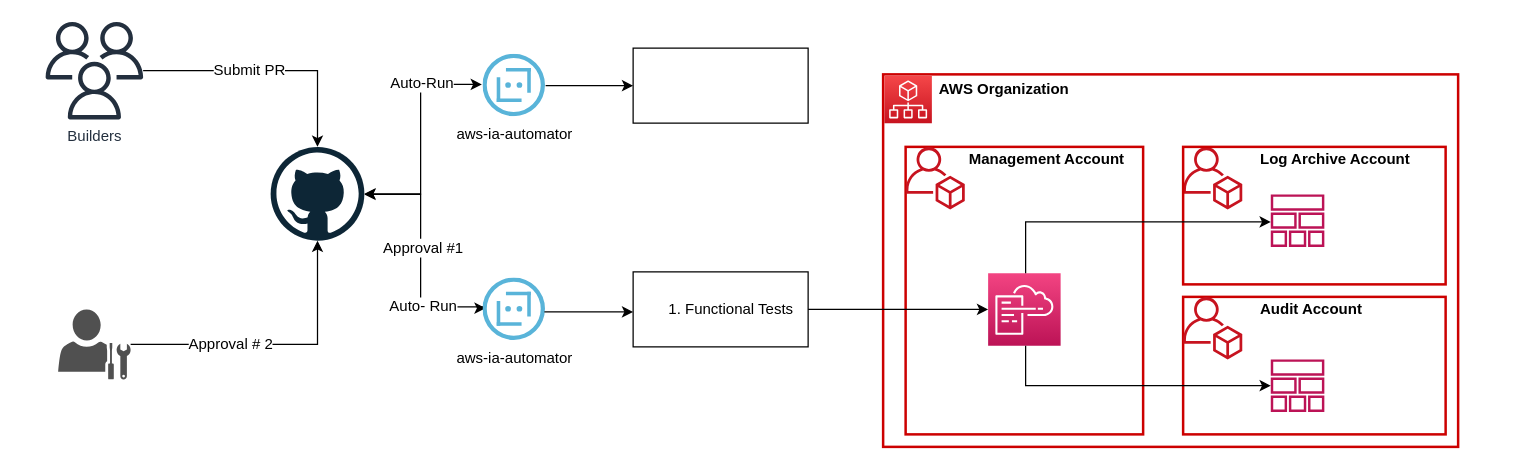
Some shapes in this 1518 by 469 pixel diagram are drawn without their labels. The centre of each missing label's shape, as x and y in pixels:
Repo Contributor with write permissions: [94,344]
Static Tests Internal Tests: [720,85]
